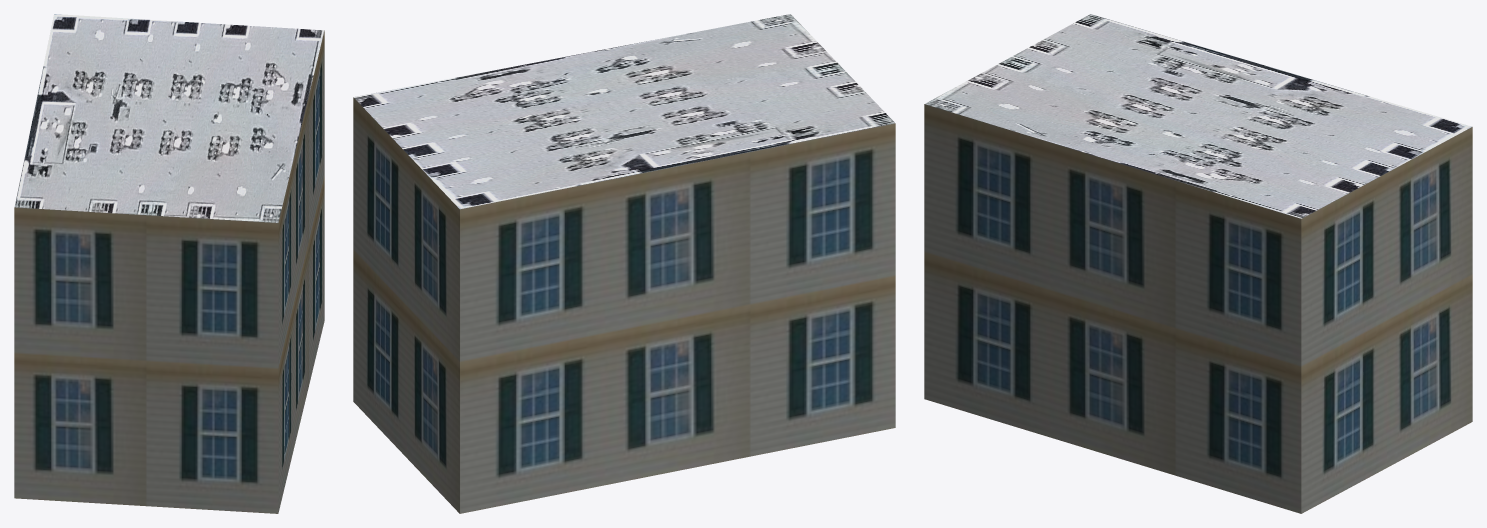
The model's file is ResTex__1341.fbx.
The picture shows the model from 3 angles, left to right: view 1: azimuth 30°, elevation 25°; view 2: azimuth 150°, elevation 25°; view 3: azimuth 270°, elevation 25°; orthographic projection. The views are drawn at different scales.
Parts seen in each view (by area): view 1: CityEngineMaterial_7_m, CityEngineMaterial_15_m; view 2: CityEngineMaterial_7_m, CityEngineMaterial_15_m; view 3: CityEngineMaterial_7_m, CityEngineMaterial_15_m.
Boxes of the visible parts, x1,y1,x2,y2 form: CityEngineMaterial_7_m: (14,30,324,513); CityEngineMaterial_15_m: (14,14,324,222); CityEngineMaterial_7_m: (353,97,895,513); CityEngineMaterial_15_m: (353,14,894,209); CityEngineMaterial_7_m: (924,104,1472,513); CityEngineMaterial_15_m: (925,14,1471,218).
Size of the model in its own units: 8.93 by 6 by 10.1.
Materials: 2 (2 with a texture image).
